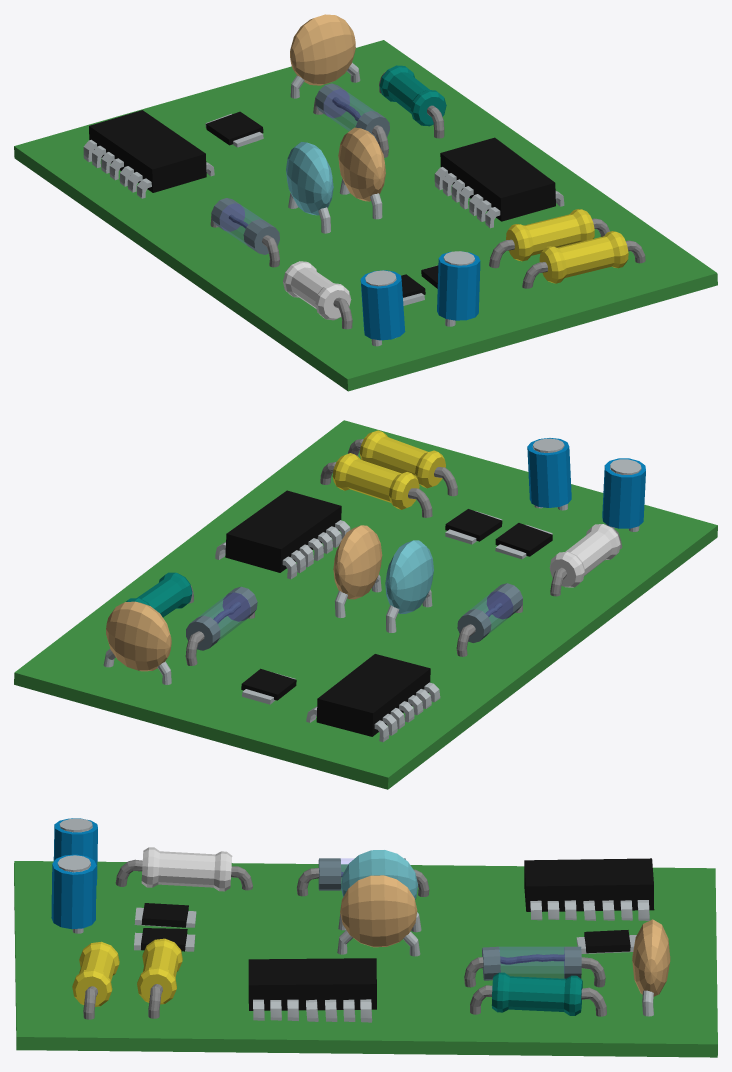
3 renders of one model, top to bottom at view 1: azimuth 30°, elevation 25°; view 2: azimuth 150°, elevation 25°; view 3: azimuth 270°, elevation 25°, orthographic. The views are drawn at different scales.
Parts seen in each view (by area): view 1: node_MeshObject-1055631360-PolyPaper10, node_MeshObject-483552256-PolyGlass24; view 2: node_MeshObject-1055631360-PolyPaper10, node_MeshObject-483552256-PolyGlass24; view 3: node_MeshObject-1055631360-PolyPaper10, node_MeshObject-483552256-PolyGlass24.
Boxes of the visible parts, x1,y1,x2,y2 form: node_MeshObject-1055631360-PolyPaper10: (14,14,717,391); node_MeshObject-483552256-PolyGlass24: (220,89,374,244); node_MeshObject-1055631360-PolyPaper10: (14,420,717,789); node_MeshObject-483552256-PolyGlass24: (199,591,512,640); node_MeshObject-1055631360-PolyPaper10: (14,818,717,1057); node_MeshObject-483552256-PolyGlass24: (341,858,564,978).
Size of the model in its own units: 0.9195 by 0.2307 by 1.41.
